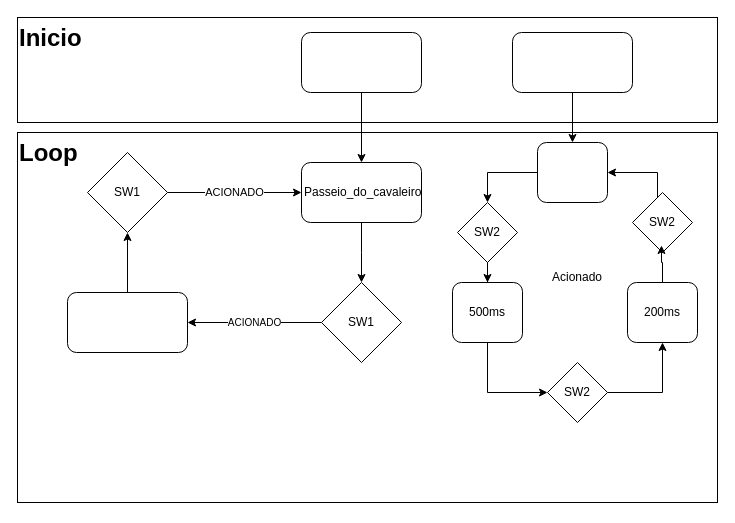
Some shapes in this 735 by 523 pixel diagram are drawn without their labels. The shapes that lost their labels are listed below. From the top down, each one's box as (x1, y1, x2, y2) in pixels, then its label:
(300, 32, 422, 92): Start
(512, 32, 632, 92): Tempo de intervalo Começa em 1000ms
(536, 142, 608, 202): 1000ms
(66, 292, 188, 352): Contador
